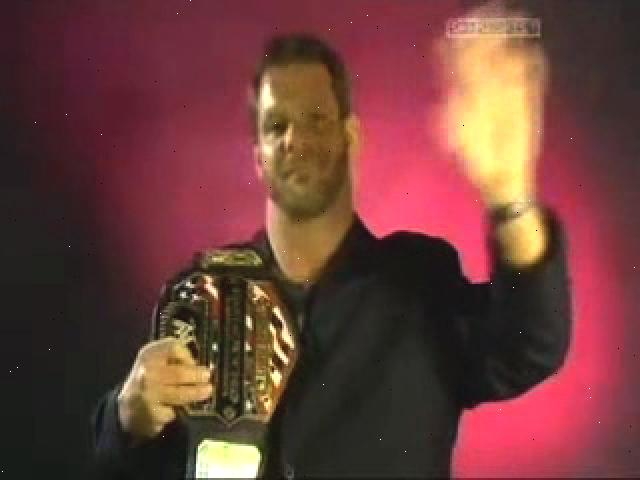L: (95, 28, 568, 477)
